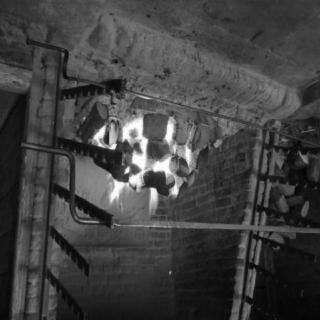Fire: (82, 104, 216, 222)
